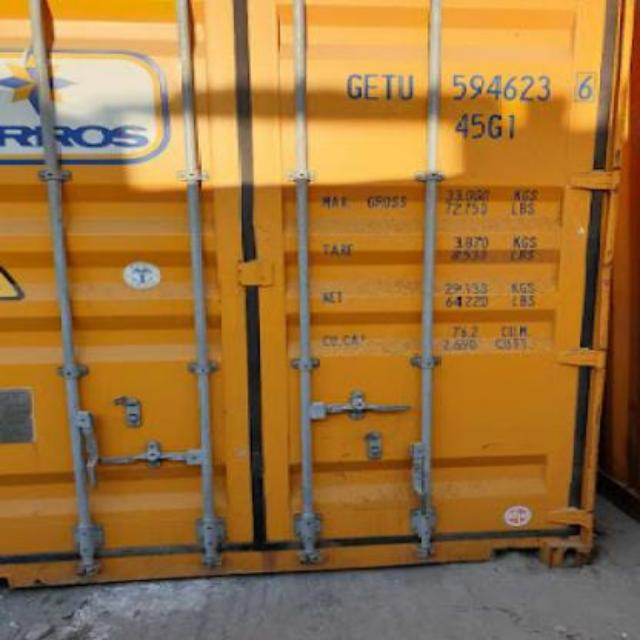2: (518, 75, 536, 102)
3: (536, 75, 550, 102)
4: (484, 74, 504, 102)
5: (450, 71, 468, 103)
6: (502, 74, 518, 102), (578, 75, 594, 101)
9: (470, 74, 486, 102)
E: (362, 70, 380, 100)
G: (344, 72, 364, 100)
T: (382, 74, 398, 100)
U: (396, 73, 416, 103)
